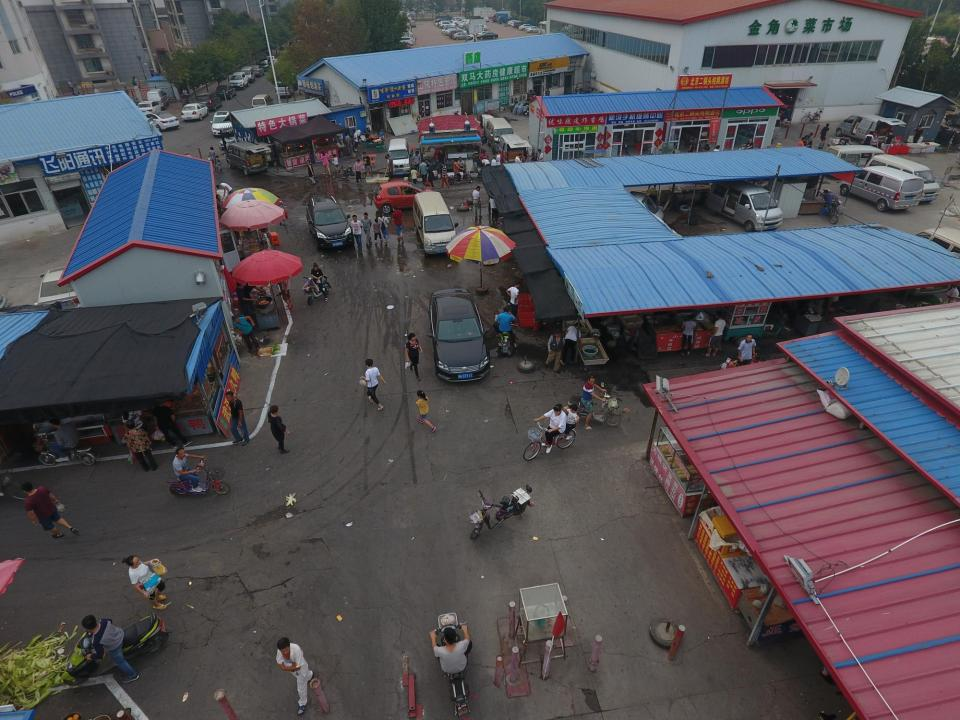car: (429, 287, 491, 383), (304, 193, 356, 254), (374, 182, 437, 214), (219, 127, 261, 153), (136, 110, 180, 130), (212, 111, 234, 137), (195, 92, 222, 112), (181, 103, 209, 121), (135, 100, 163, 118), (228, 72, 250, 90), (214, 85, 238, 100), (256, 58, 272, 72), (248, 65, 265, 77), (263, 55, 278, 66), (393, 37, 412, 45), (525, 26, 543, 34), (450, 30, 468, 38), (478, 32, 498, 39), (510, 20, 526, 28), (436, 20, 452, 28), (514, 21, 529, 29), (518, 23, 535, 30), (453, 33, 470, 40), (507, 19, 522, 26), (442, 26, 457, 33), (434, 18, 449, 25), (445, 28, 459, 35), (439, 22, 454, 28), (484, 17, 491, 23)
truck: (419, 114, 498, 146), (467, 24, 490, 36), (465, 19, 488, 29), (498, 15, 516, 24), (492, 13, 512, 21)
van: (706, 179, 782, 234), (840, 164, 924, 213), (864, 155, 940, 205), (581, 190, 665, 229), (413, 192, 458, 260), (828, 145, 892, 180), (836, 115, 893, 146), (226, 142, 270, 174), (494, 135, 529, 168), (388, 137, 412, 176), (485, 118, 514, 150), (486, 118, 514, 150), (147, 88, 170, 110), (252, 95, 274, 113), (274, 80, 294, 98), (239, 66, 256, 83), (459, 20, 477, 28), (450, 16, 469, 23)
